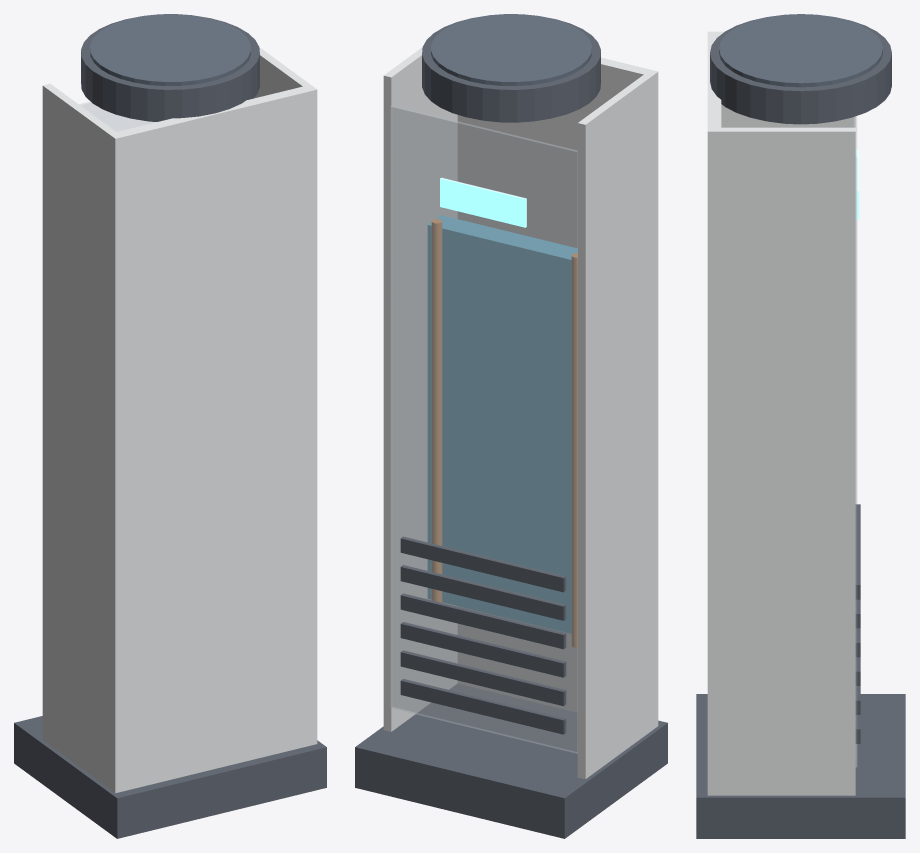
Rendered from ac-standing.glb.
The picture shows the model from 3 angles, left to right: view 1: azimuth 30°, elevation 25°; view 2: azimuth 150°, elevation 25°; view 3: azimuth 270°, elevation 25°; orthographic projection.
Visible parts, largest first — view 1: TowerBack, TowerSide_-0.25, PlinthBase, TopBlower, TopCollar, TowerSide_0.25, InspectionWindow; view 2: InspectionWindow, TowerSide_-0.25, VerticalCoil, TowerSide_0.25, PlinthBase, TowerBack, TopBlower, TopCollar, CoilHeader_0.18, TowerSlat_1, TowerSlat_2, TowerSlat_3 (+5 smaller); view 3: TowerSide_0.25, PlinthBase, TopBlower, TopCollar, TowerBack, InspectionWindow, TowerSide_-0.25, TowerSlat_5.
Boxes of the visible parts, x1=… form: TowerBack: x1=108, y1=85, x2=317, y2=793; TowerSide_-0.25: x1=42, y1=83, x2=120, y2=791; PlinthBase: x1=14, y1=716, x2=326, y2=838; TopBlower: x1=90, y1=14, x2=250, y2=121; TopCollar: x1=81, y1=16, x2=259, y2=121; TowerSide_0.25: x1=253, y1=47, x2=315, y2=98; InspectionWindow: x1=79, y1=101, x2=156, y2=131; InspectionWindow: x1=390, y1=105, x2=577, y2=753; TowerSide_-0.25: x1=577, y1=70, x2=657, y2=779; VerticalCoil: x1=427, y1=215, x2=577, y2=633; TowerSide_0.25: x1=383, y1=47, x2=457, y2=731; PlinthBase: x1=355, y1=683, x2=667, y2=838; TowerBack: x1=457, y1=57, x2=658, y2=729; TopBlower: x1=431, y1=14, x2=591, y2=122; TopCollar: x1=422, y1=16, x2=600, y2=122; CoilHeader_0.18: x1=431, y1=219, x2=442, y2=602; TowerSlat_1: x1=400, y1=650, x2=566, y2=706; TowerSlat_2: x1=400, y1=622, x2=566, y2=677; TowerSlat_3: x1=400, y1=593, x2=566, y2=649; TowerSide_0.25: x1=710, y1=127, x2=855, y2=795; PlinthBase: x1=696, y1=694, x2=905, y2=838; TopBlower: x1=719, y1=14, x2=882, y2=124; TopCollar: x1=710, y1=17, x2=891, y2=124; TowerBack: x1=707, y1=31, x2=721, y2=795; InspectionWindow: x1=853, y1=116, x2=857, y2=767; TowerSide_-0.25: x1=710, y1=31, x2=855, y2=127; TowerSlat_5: x1=855, y1=504, x2=860, y2=599.
Size of the model in its own units: 0.54 by 1.79 by 0.46.
